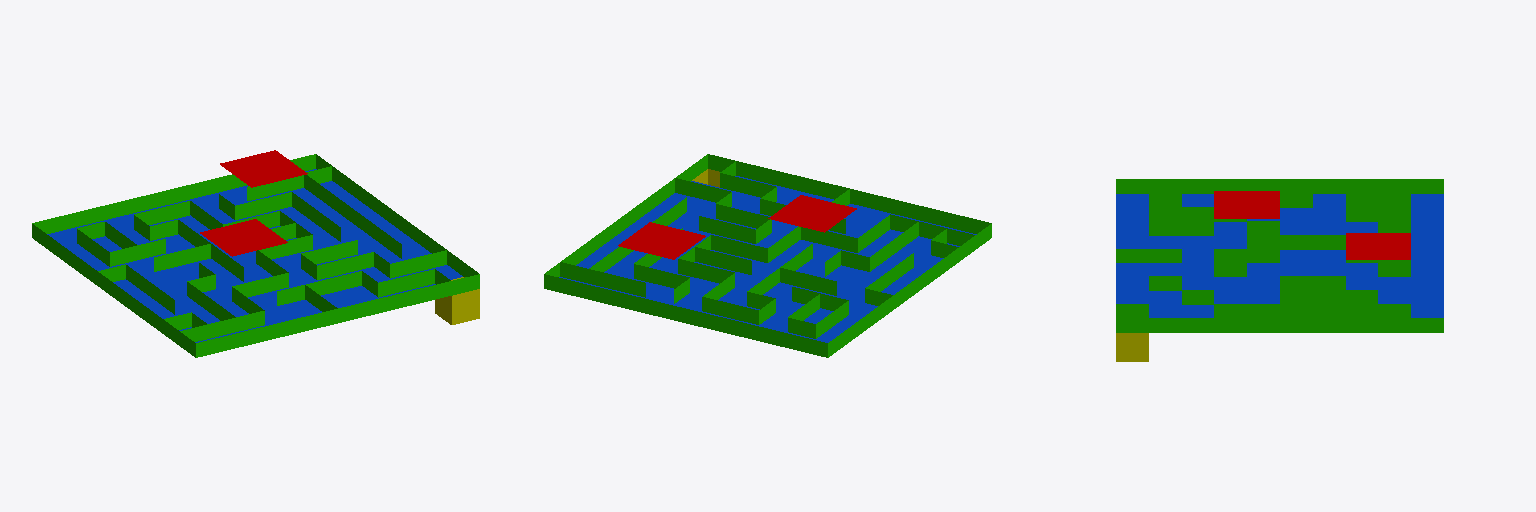
File: meiro.obj
The picture shows the model from 3 angles: view 1: azimuth 30°, elevation 25°; view 2: azimuth 150°, elevation 25°; view 3: azimuth 270°, elevation 25°; orthographic projection.
Visible parts, largest first — view 1: Plane; view 2: Plane; view 3: Plane.
Boxes of the visible parts, x1,y1,x2,y2 form: Plane: [32, 150, 479, 357]; Plane: [544, 154, 991, 357]; Plane: [1116, 179, 1443, 361].
Bounding box in the file's own units: 20 × 5 × 20.